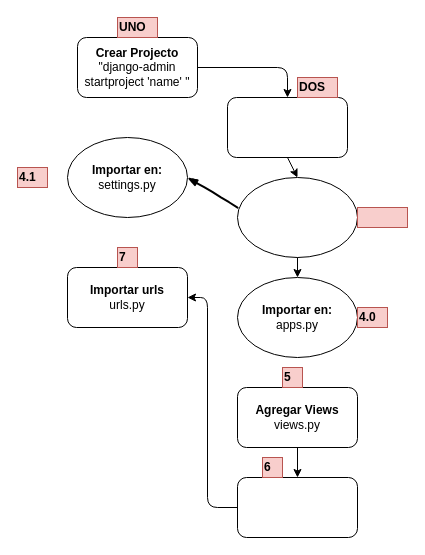
This 425x555 diagram has some shape labels left out. Each missing label, with the box of its shape:
Crear App " python manage.py startapp 'name' ": (226, 96, 348, 158)
Crear Modelos "models.py": (236, 176, 358, 258)
Crear urls urls.py: (236, 476, 358, 538)
TRES: (356, 206, 408, 228)
